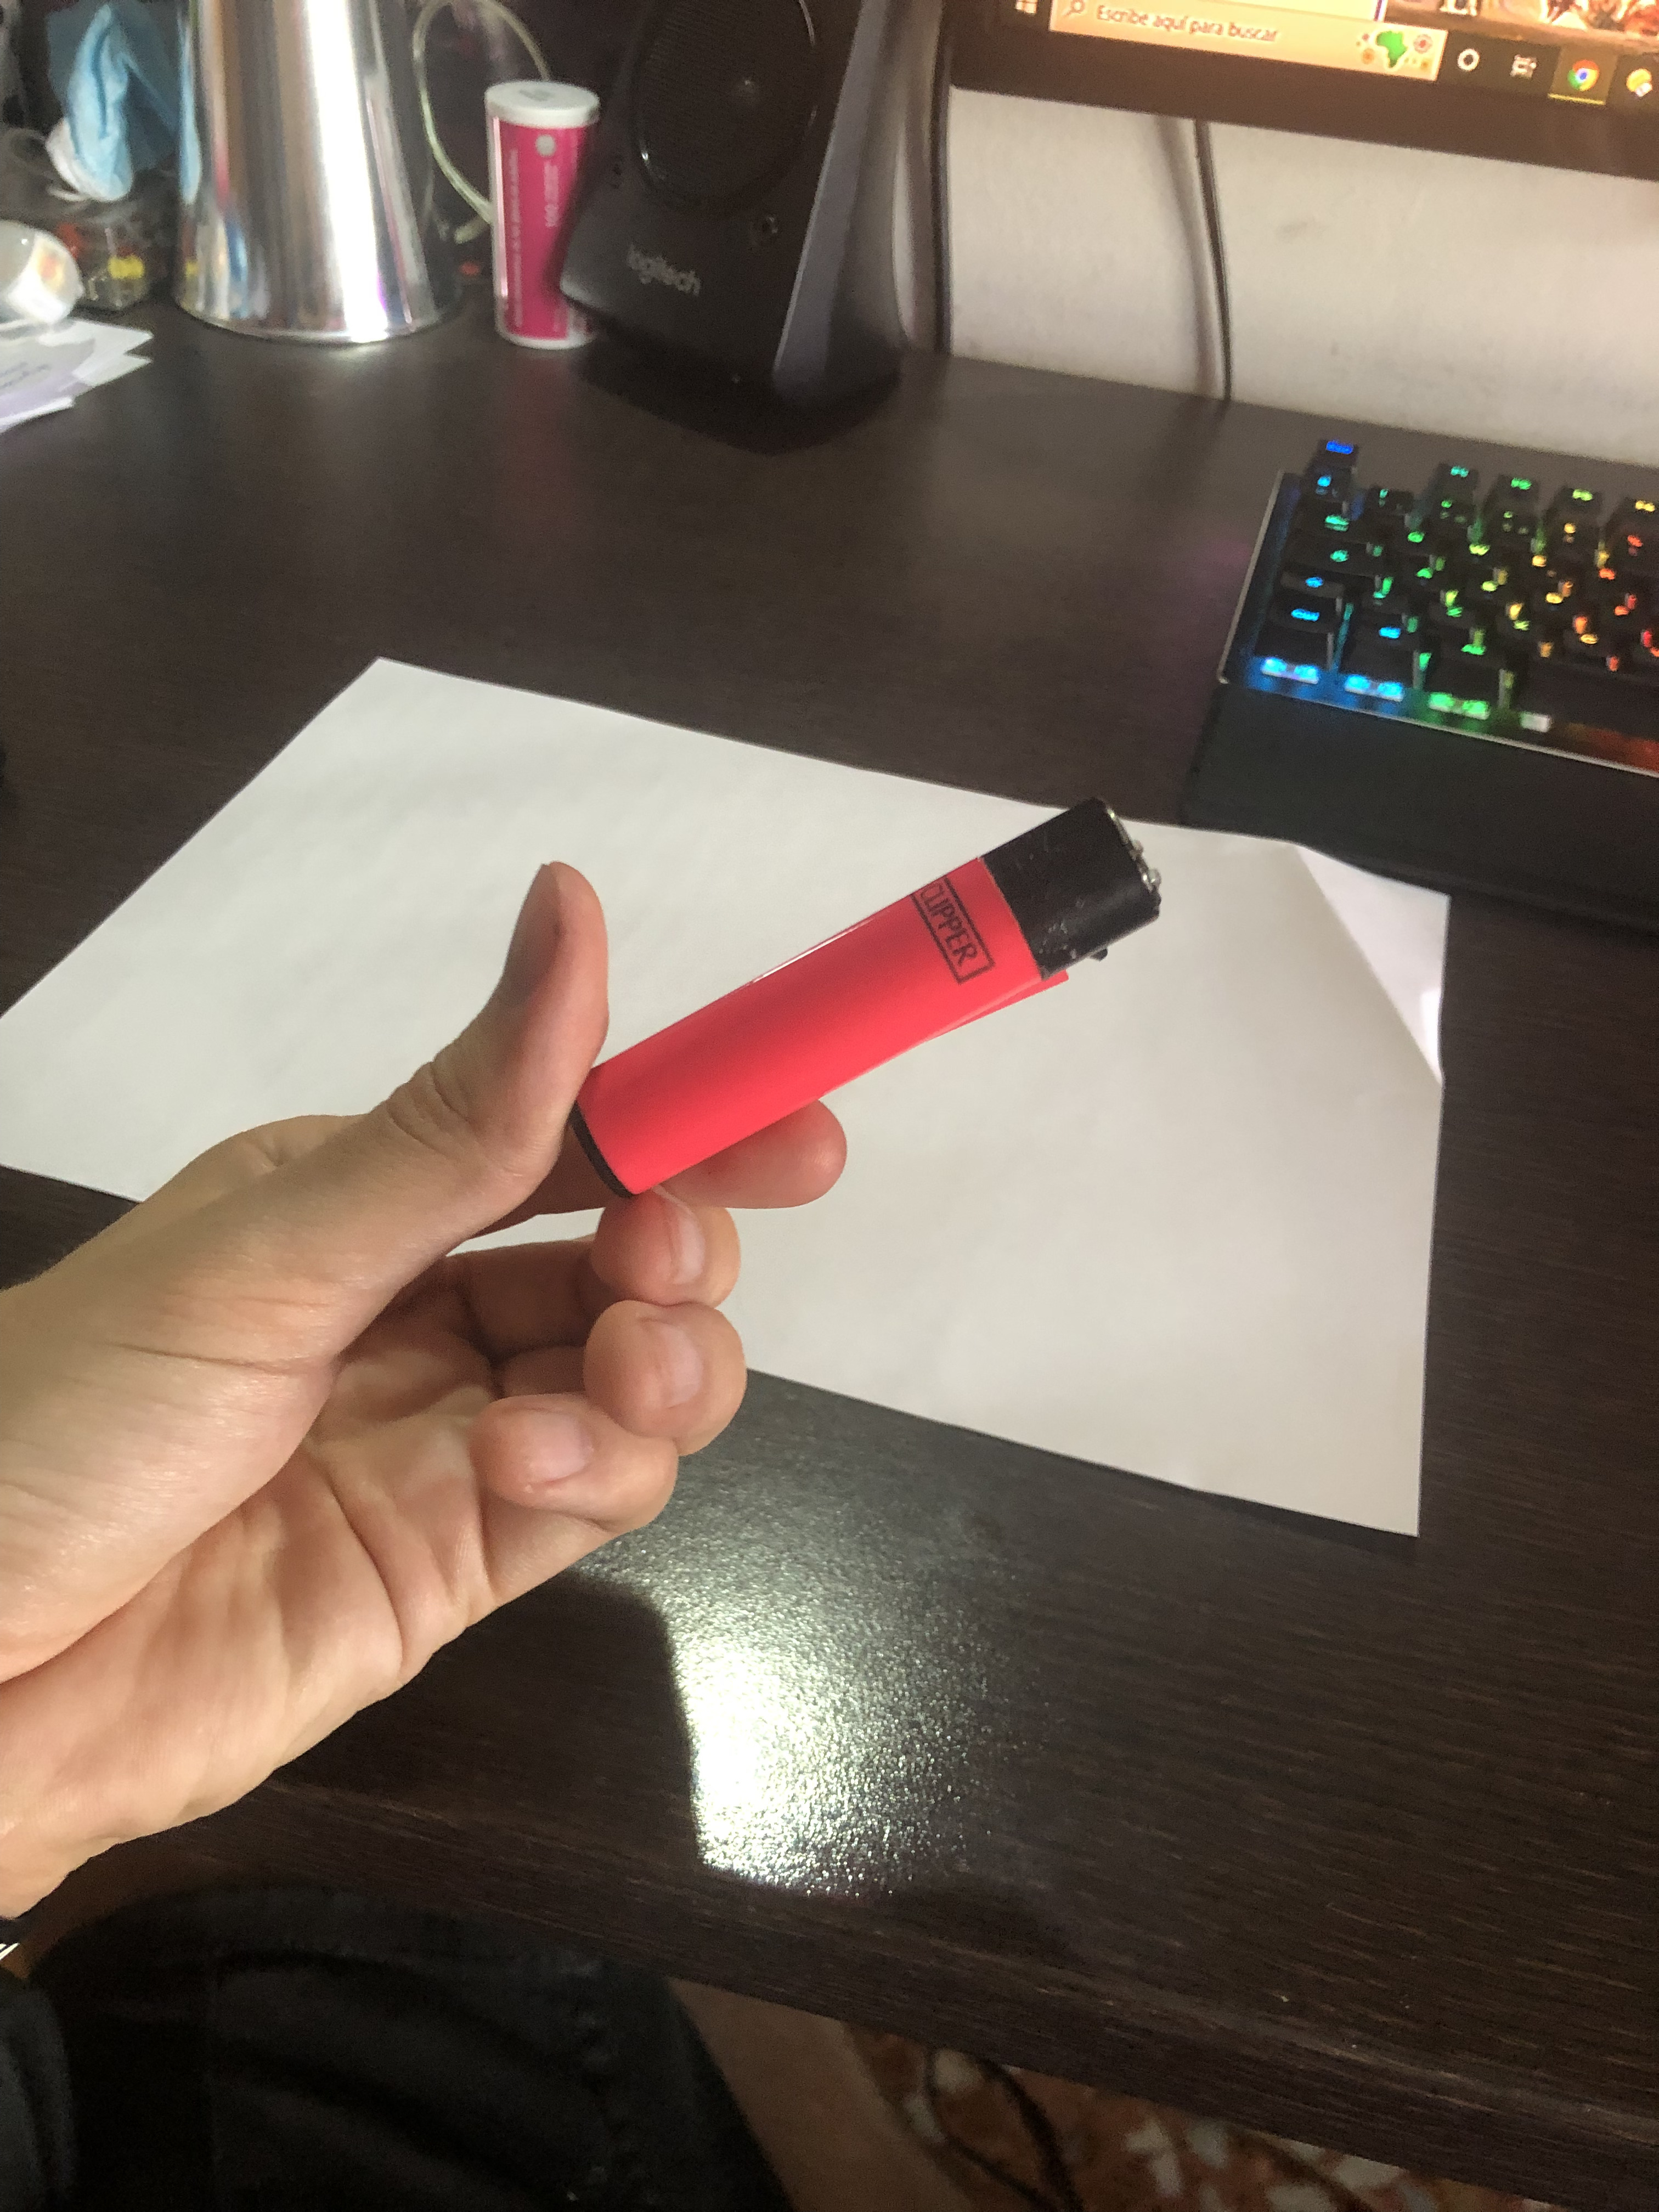Mechero: (552, 792, 1152, 1233)
